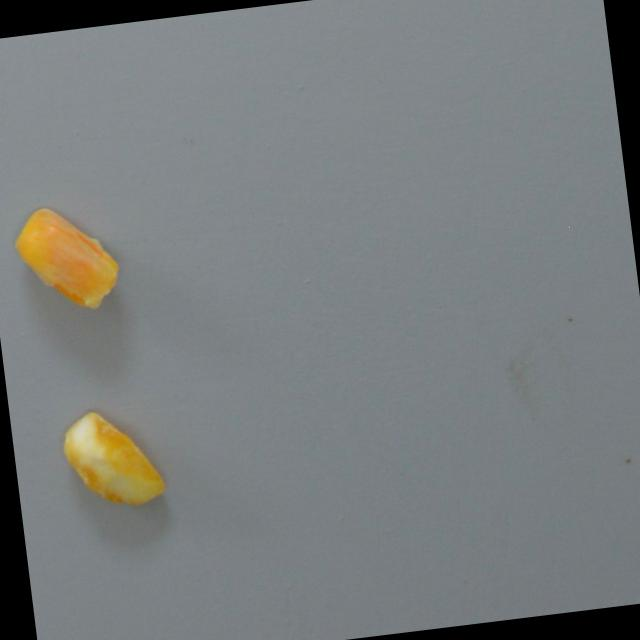dañado: (3, 195, 131, 321), (54, 400, 171, 518)
